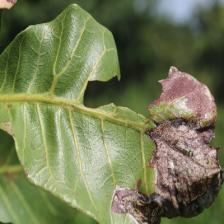leaf miner: (102, 64, 223, 223)
